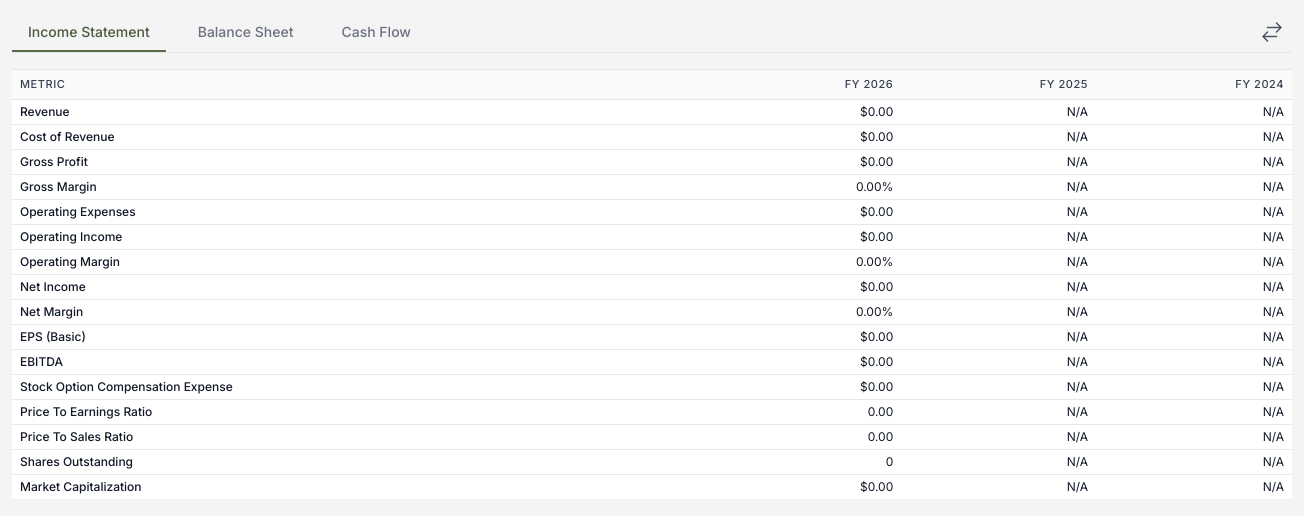
FinancialStatementsTabs › builds the fiscal-year axis from every statement source and sorts it
Expected: the column headings read "Metric", "FY 2026", "FY 2025", "FY 2024", in this order, x1=12 y1=70 x2=706 y2=98; x1=706 y1=70 x2=901 y2=98; x1=901 y1=70 x2=1096 y2=98; x1=1096 y1=70 x2=1292 y2=98
Click the button named "Show oldest fiscal year first" at coordinates (1272, 32), box x1=1252 y1=12 x2=1292 y2=52
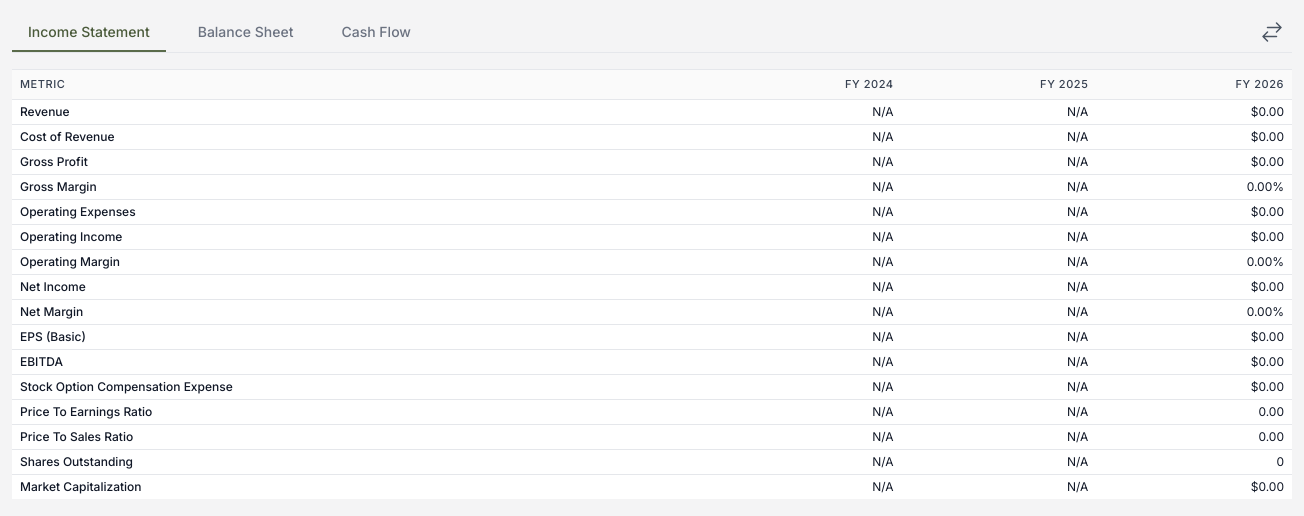
Expected: the column headings read "Metric", "FY 2024", "FY 2025", "FY 2026", in this order, x1=12 y1=70 x2=706 y2=98; x1=706 y1=70 x2=902 y2=98; x1=902 y1=70 x2=1096 y2=98; x1=1096 y1=70 x2=1292 y2=98
